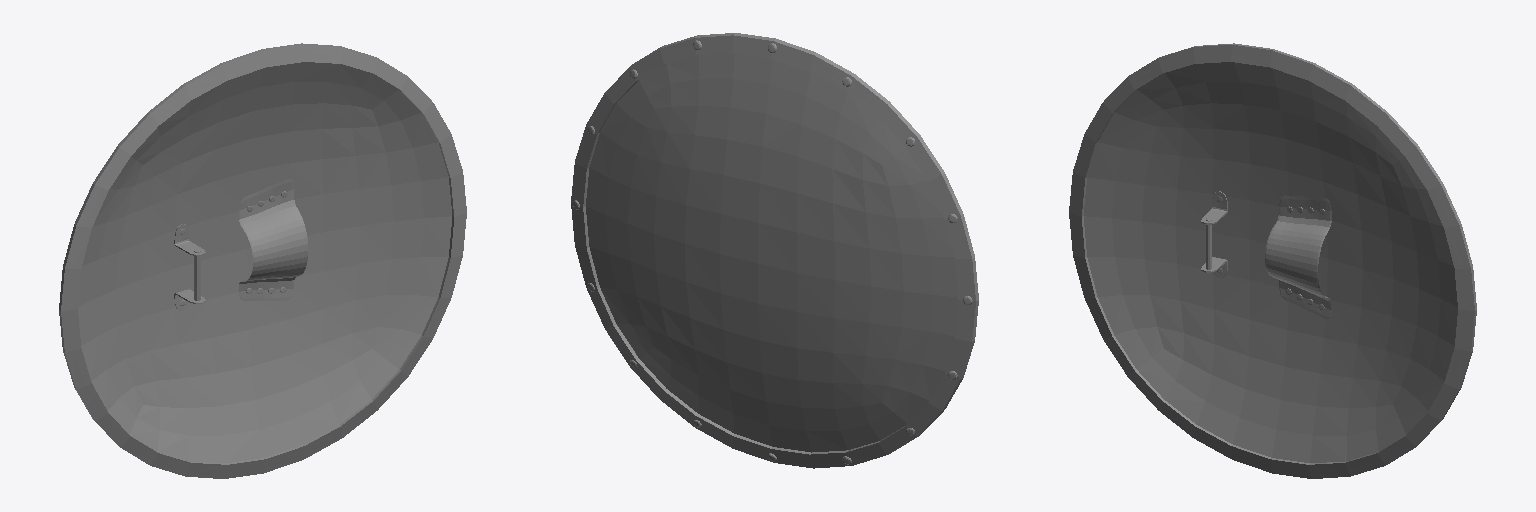
File: Shield_LowPoly2.obj
3 views of the same model, side by side, from view 1: azimuth 30°, elevation 25°; view 2: azimuth 150°, elevation 25°; view 3: azimuth 330°, elevation 25° (orthographic).
Visible parts, largest first — view 1: Shield, Holder; view 2: Shield, Bolts; view 3: Shield, Holder.
Part boxes in pixels (x1,y1,x2,y2): Shield: (59,43,466,478); Holder: (174,179,307,310); Shield: (571,33,978,468); Bolts: (573,40,972,464); Shield: (1069,43,1476,478); Holder: (1201,191,1331,319).
Bounding box in the file's own units: 92.41 × 92.01 × 8.15.